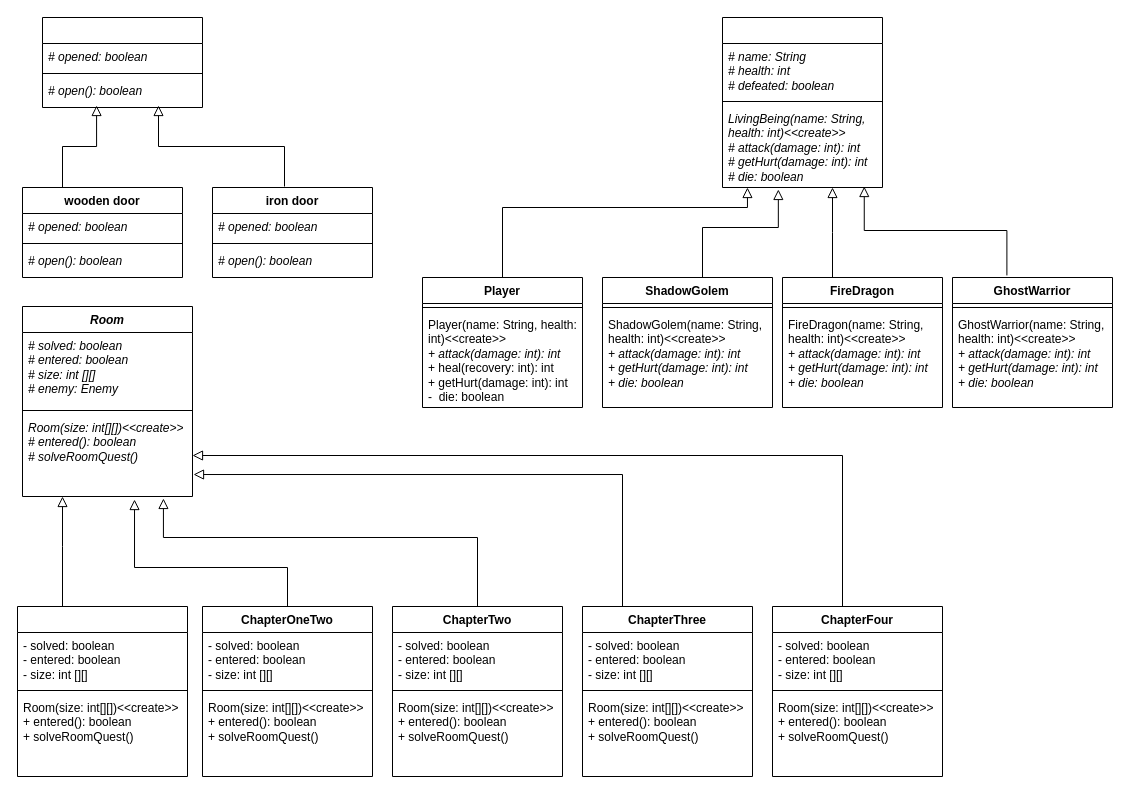
This 1130x797 diagram has some shape labels left out. Here are the shapes that lost their labels. From the top down, the box of each, then its label:
(42, 16, 202, 108): Door
(722, 16, 882, 188): creatures
(16, 606, 188, 776): ChapterOneOne
